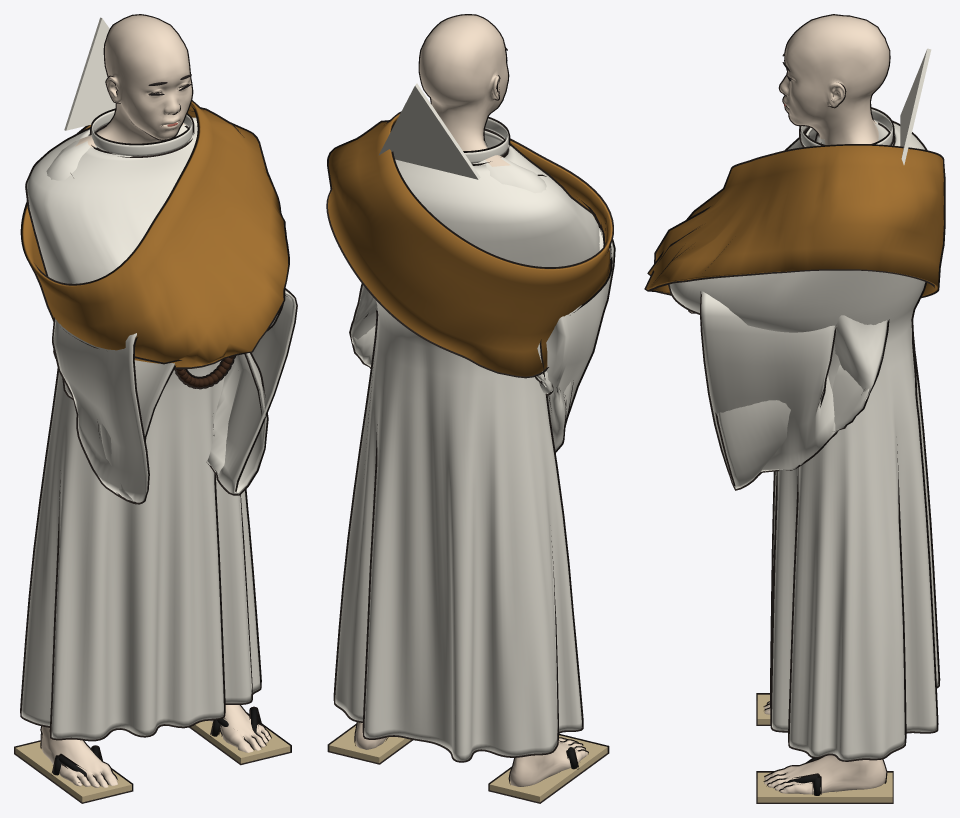
The model's file is sou_kosou.glb.
3 renders of one model, left to right at view 1: azimuth 30°, elevation 25°; view 2: azimuth 150°, elevation 25°; view 3: azimuth 270°, elevation 25°, orthographic.
Parts seen in each view (by area): view 1: koromo, kesa, Human, sode.R, sode.L, koromo_sen, sougoueri, kesa_sen, zori.R, eri, zori.L, sode.R_sen (+3 smaller); view 2: koromo, kesa, Human, sode.R, sougoueri, koromo_sen, kesa_sen, zori.R, sode.L, zori.L, sode.R_sen, Human_sen (+1 smaller); view 3: koromo, kesa, sode.L, Human, koromo_sen, kesa_sen, zori.L, sode.L_sen, sougoueri, Human_sen.
Part boxes in pixels (left/top/right/bottom): koromo: left=21, top=125, right=277, bottom=739; kesa: left=22, top=101, right=288, bottom=367; Human: left=41, top=15, right=270, bottom=787; sode.R: left=53, top=175, right=174, bottom=502; sode.L: left=207, top=290, right=296, bottom=494; koromo_sen: left=20, top=127, right=283, bottom=741; sougoueri: left=64, top=17, right=115, bottom=130; kesa_sen: left=20, top=100, right=289, bottom=369; zori.R: left=15, top=741, right=131, bottom=802; eri: left=91, top=110, right=192, bottom=156; zori.L: left=191, top=720, right=290, bottom=763; sode.R_sen: left=47, top=173, right=175, bottom=504; koromo: left=335, top=131, right=599, bottom=760; kesa: left=328, top=114, right=612, bottom=376; Human: left=355, top=15, right=587, bottom=786; sode.R: left=536, top=176, right=613, bottom=450; sougoueri: left=378, top=83, right=480, bottom=179; koromo_sen: left=333, top=129, right=601, bottom=762; kesa_sen: left=326, top=111, right=613, bottom=378; zori.R: left=489, top=735, right=607, bottom=802; sode.L: left=351, top=285, right=377, bottom=366; zori.L: left=329, top=726, right=410, bottom=762; sode.R_sen: left=535, top=174, right=615, bottom=452; Human_sen: left=354, top=14, right=588, bottom=784; koromo: left=669, top=123, right=938, bottom=760; kesa: left=646, top=145, right=943, bottom=296; sode.L: left=701, top=291, right=887, bottom=488; Human: left=690, top=15, right=893, bottom=794; koromo_sen: left=668, top=120, right=940, bottom=761; kesa_sen: left=644, top=144, right=945, bottom=298; zori.L: left=757, top=772, right=892, bottom=802; sode.L_sen: left=700, top=291, right=889, bottom=490; sougoueri: left=900, top=48, right=931, bottom=164; Human_sen: left=684, top=14, right=890, bottom=791.
Bounding box in the file's own units: 0.5381 × 1.55 × 0.5763.
